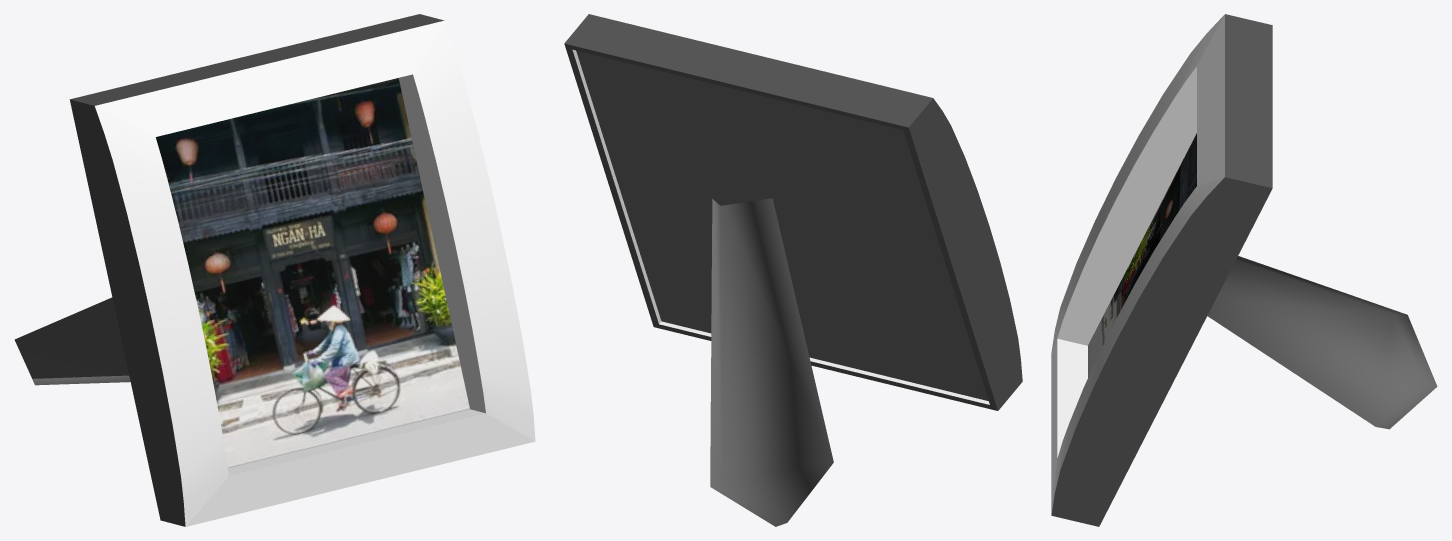
The model's file is sh-scopia-frame2.glb.
3 views of the same model, side by side, from view 1: azimuth 30°, elevation 25°; view 2: azimuth 150°, elevation 25°; view 3: azimuth 270°, elevation 25° (orthographic). The views are drawn at different scales.
Parts seen in each view (by area): view 1: frame2_Cube.002; view 2: frame2_Cube.002; view 3: frame2_Cube.002.
Part boxes in pixels (x1,y1,x2,y2): frame2_Cube.002: [14, 14, 535, 526]; frame2_Cube.002: [564, 14, 1022, 526]; frame2_Cube.002: [1051, 14, 1437, 526].
Bounding box in the file's own units: 1 × 1 × 1.
Materials: 4 (1 with a texture image).
